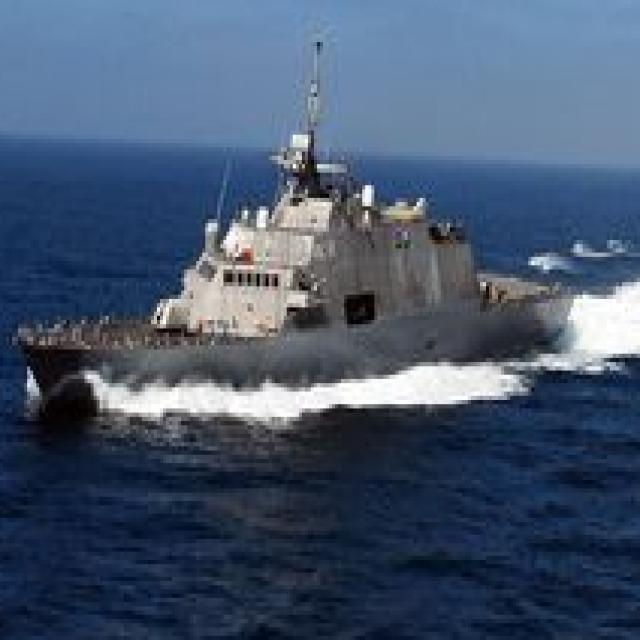navalvessels: (8, 69, 578, 416)
